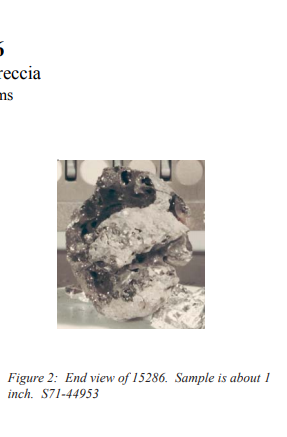Breccia: (82, 166, 191, 329)
